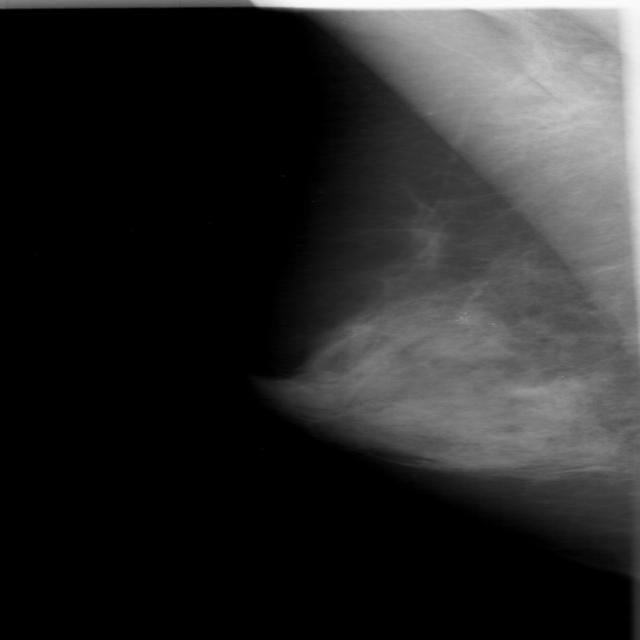normal: (220, 89, 640, 508)
